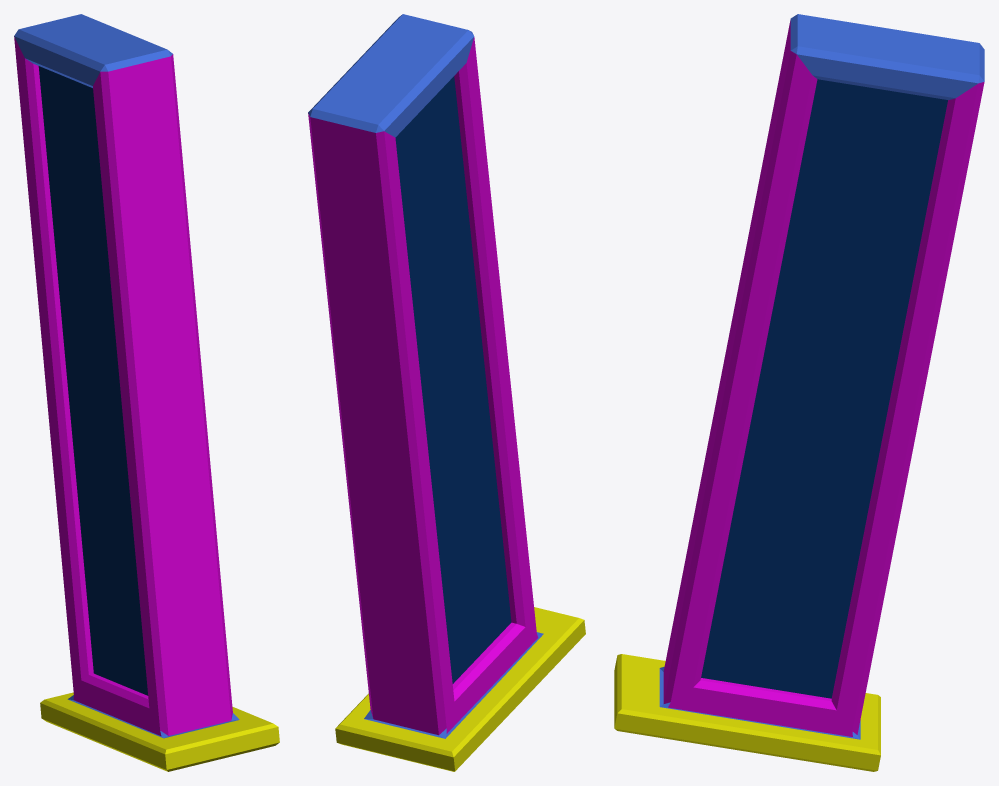
The model's file is Mag_PM.fbx.
3 renders of one model, left to right at view 1: azimuth 30°, elevation 25°; view 2: azimuth 150°, elevation 25°; view 3: azimuth 270°, elevation 25°, orthographic. The views are drawn at different scales.
Parts seen in each view (by area): view 1: mag_pm; view 2: mag_pm; view 3: mag_pm.
Boxes of the visible parts, left/top/right/bottom form: mag_pm: left=14, top=14, right=279, bottom=771; mag_pm: left=308, top=14, right=585, bottom=771; mag_pm: left=614, top=14, right=984, bottom=771.
Bounding box in the file's own units: 0.252 × 1.44 × 0.6769.
